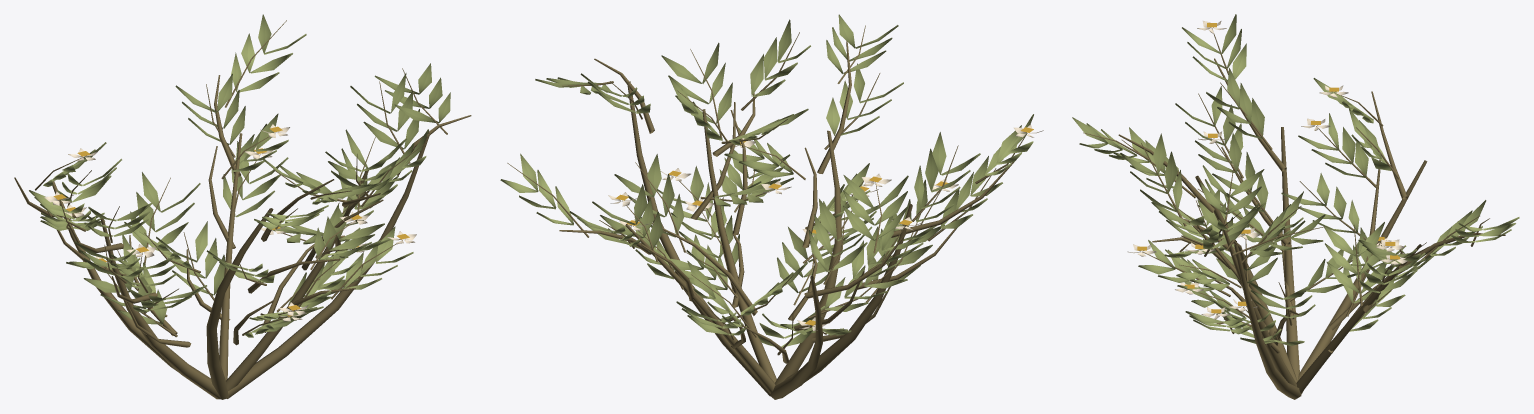
File: Ciste_2_Low.fbx
3 views of the same model, side by side, from view 1: azimuth 30°, elevation 25°; view 2: azimuth 150°, elevation 25°; view 3: azimuth 270°, elevation 25° (orthographic). The views are drawn at different scales.
Visible parts, largest first — view 1: Ciste_2_Low; view 2: Ciste_2_Low; view 3: Ciste_2_Low.
Part boxes in pixels (x1,y1,x2,y2): Ciste_2_Low: [14, 14, 471, 399]; Ciste_2_Low: [500, 14, 1043, 399]; Ciste_2_Low: [1072, 14, 1519, 399].
Bounding box in the file's own units: 122 × 75.36 × 109.
